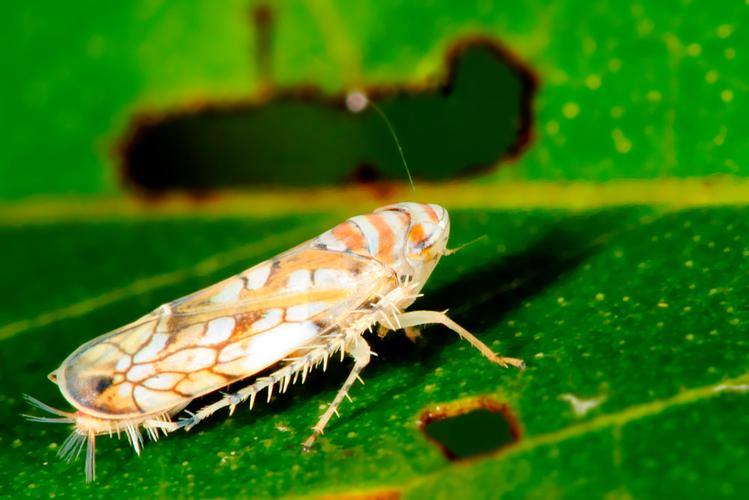Cicadellidae: (44, 197, 525, 480)
